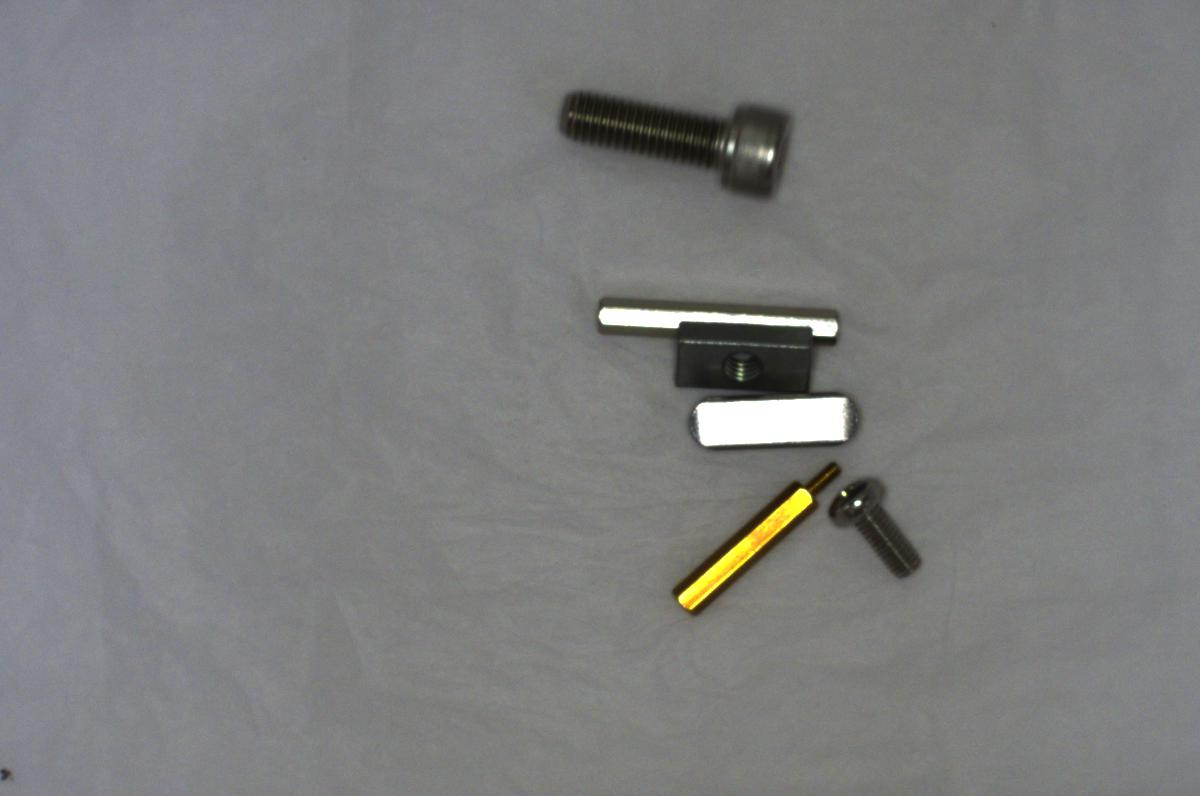Double hexagonal column: (580, 282, 855, 351)
Hexagon pillar: (671, 453, 844, 617)
Hexagon screw: (542, 74, 806, 214)
Keybar: (679, 386, 874, 456)
Rectangular nut: (658, 315, 829, 398)
Round head screw: (820, 469, 930, 589)
